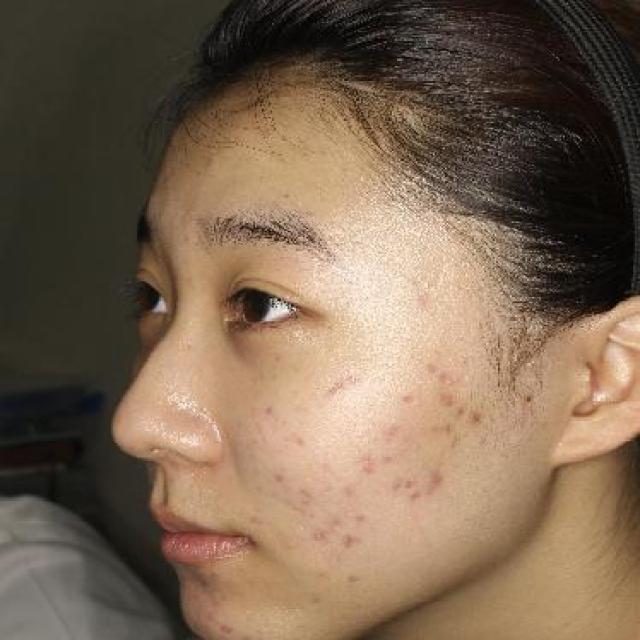dark spot: (320, 369, 363, 402), (422, 463, 452, 494), (243, 503, 269, 531), (325, 503, 351, 531), (436, 388, 464, 412), (293, 482, 318, 508), (312, 523, 337, 548), (266, 462, 294, 483), (392, 388, 421, 408), (356, 451, 376, 480), (333, 531, 362, 551), (214, 620, 243, 640), (376, 449, 406, 468), (378, 474, 409, 492), (349, 509, 373, 531), (200, 604, 226, 624), (291, 431, 313, 454), (257, 400, 282, 418), (406, 484, 428, 504), (469, 406, 488, 428), (348, 568, 367, 590), (386, 417, 406, 437), (435, 365, 457, 383), (402, 472, 421, 492), (303, 590, 323, 608), (450, 406, 471, 420), (340, 484, 360, 498)
